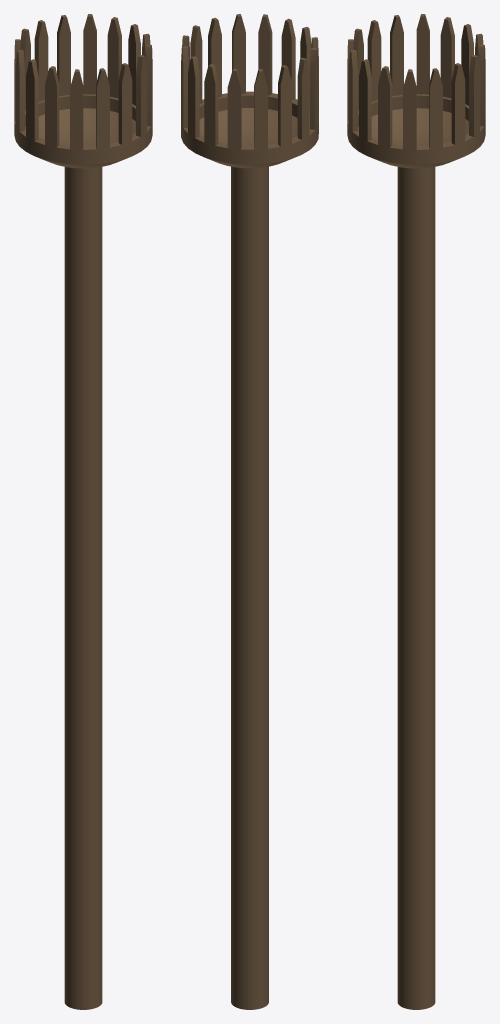
Rendered from Torch2.gltf.
3 views of the same model, side by side, from view 1: azimuth 90°, elevation 25°; view 2: azimuth 150°, elevation 25°; view 3: azimuth 270°, elevation 25° (orthographic).
Visible parts, largest first — view 1: Torch; view 2: Torch; view 3: Torch.
Part boxes in pixels (x1,y1,x2,y2): Torch: [14, 14, 152, 1009]; Torch: [181, 14, 318, 1009]; Torch: [347, 14, 485, 1009].
Size of the model in its own units: 0.4839 by 3.71 by 0.4839.
